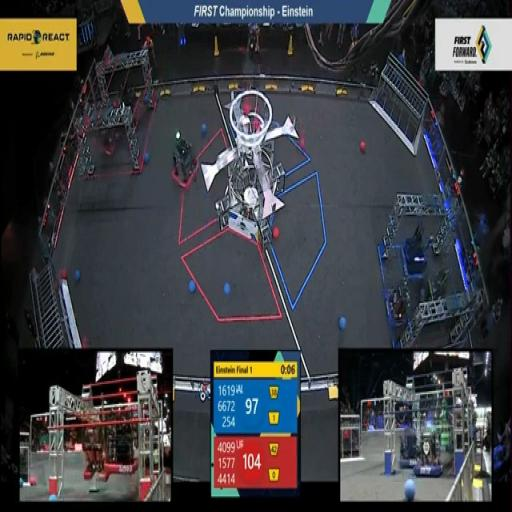robot: (414, 263, 452, 329), (400, 209, 428, 279), (168, 131, 199, 189), (113, 77, 143, 132), (382, 278, 412, 332), (91, 111, 121, 161)
